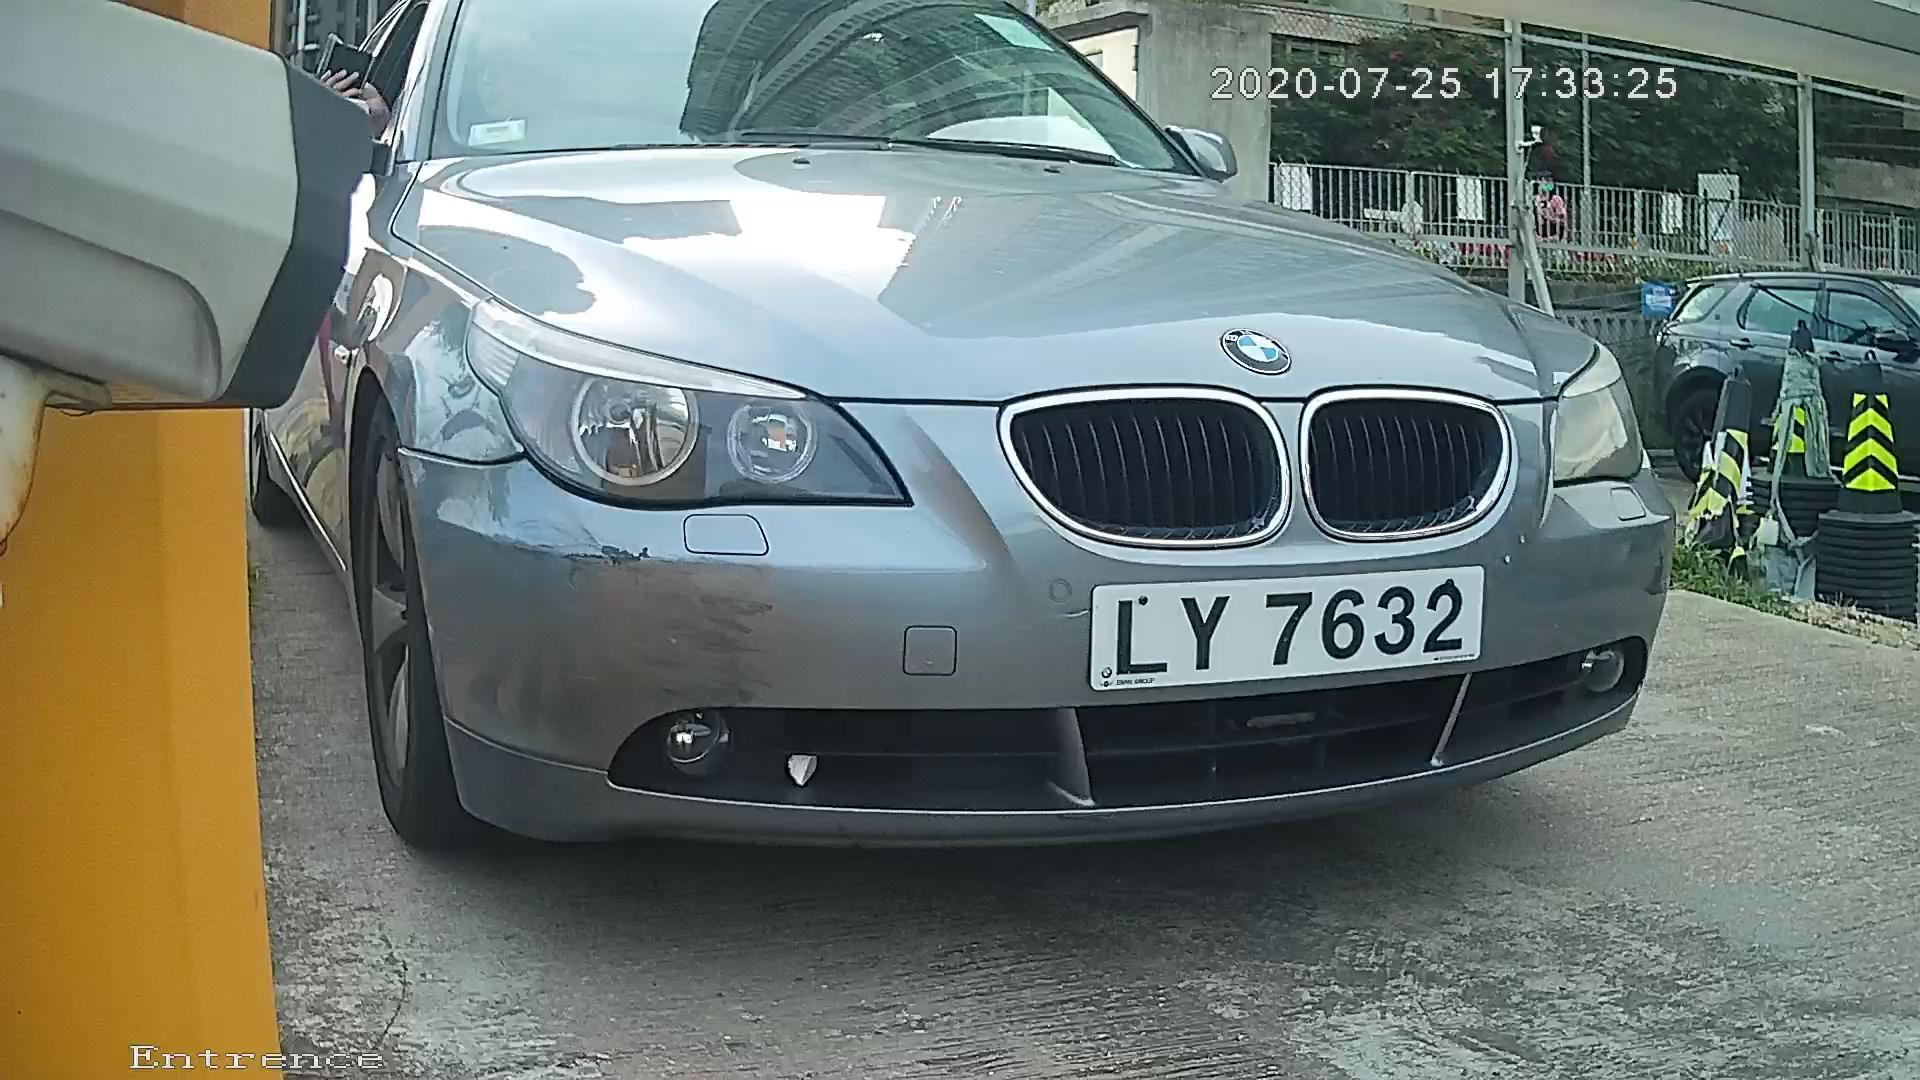Car: (163, 5, 1809, 931)
License Plate: (1081, 555, 1509, 704)
